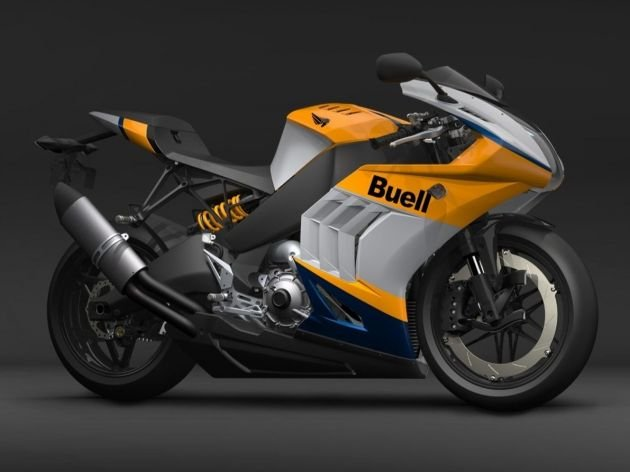motor: (22, 44, 608, 431)
